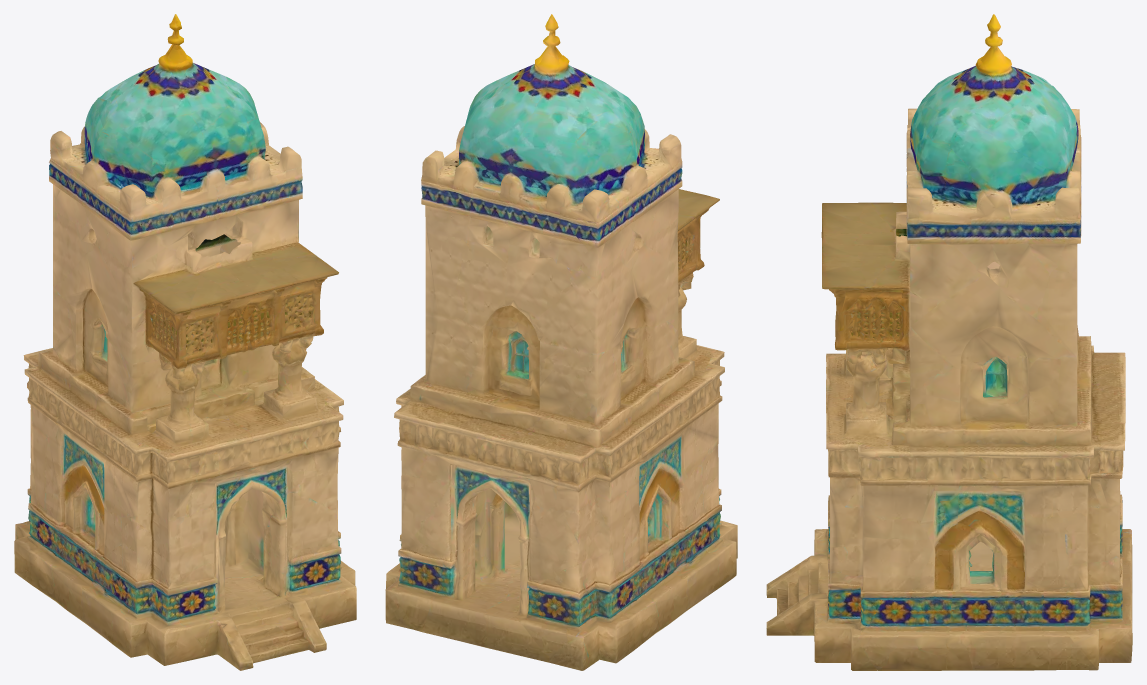
The model's file is SealTower.glb.
3 views of the same model, side by side, from view 1: azimuth 30°, elevation 25°; view 2: azimuth 150°, elevation 25°; view 3: azimuth 270°, elevation 25° (orthographic). The views are drawn at different scales.
Size of the model in its own units: 0.7887 by 1.9 by 1.05.
Materials: 1 (1 with a texture image).
